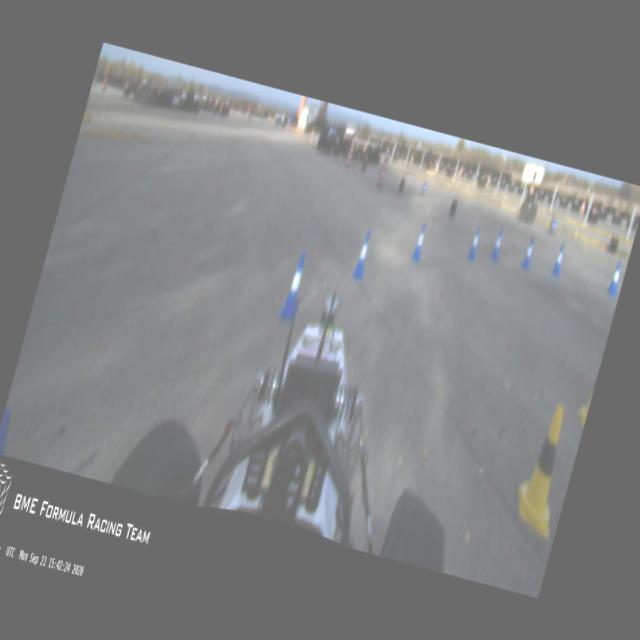blue_cone: (278, 251, 308, 320), (351, 230, 374, 280), (410, 221, 430, 262), (605, 260, 625, 296), (520, 235, 538, 270), (550, 242, 568, 276), (466, 226, 483, 262), (488, 226, 506, 260)
yellow_cone: (508, 399, 582, 538)
